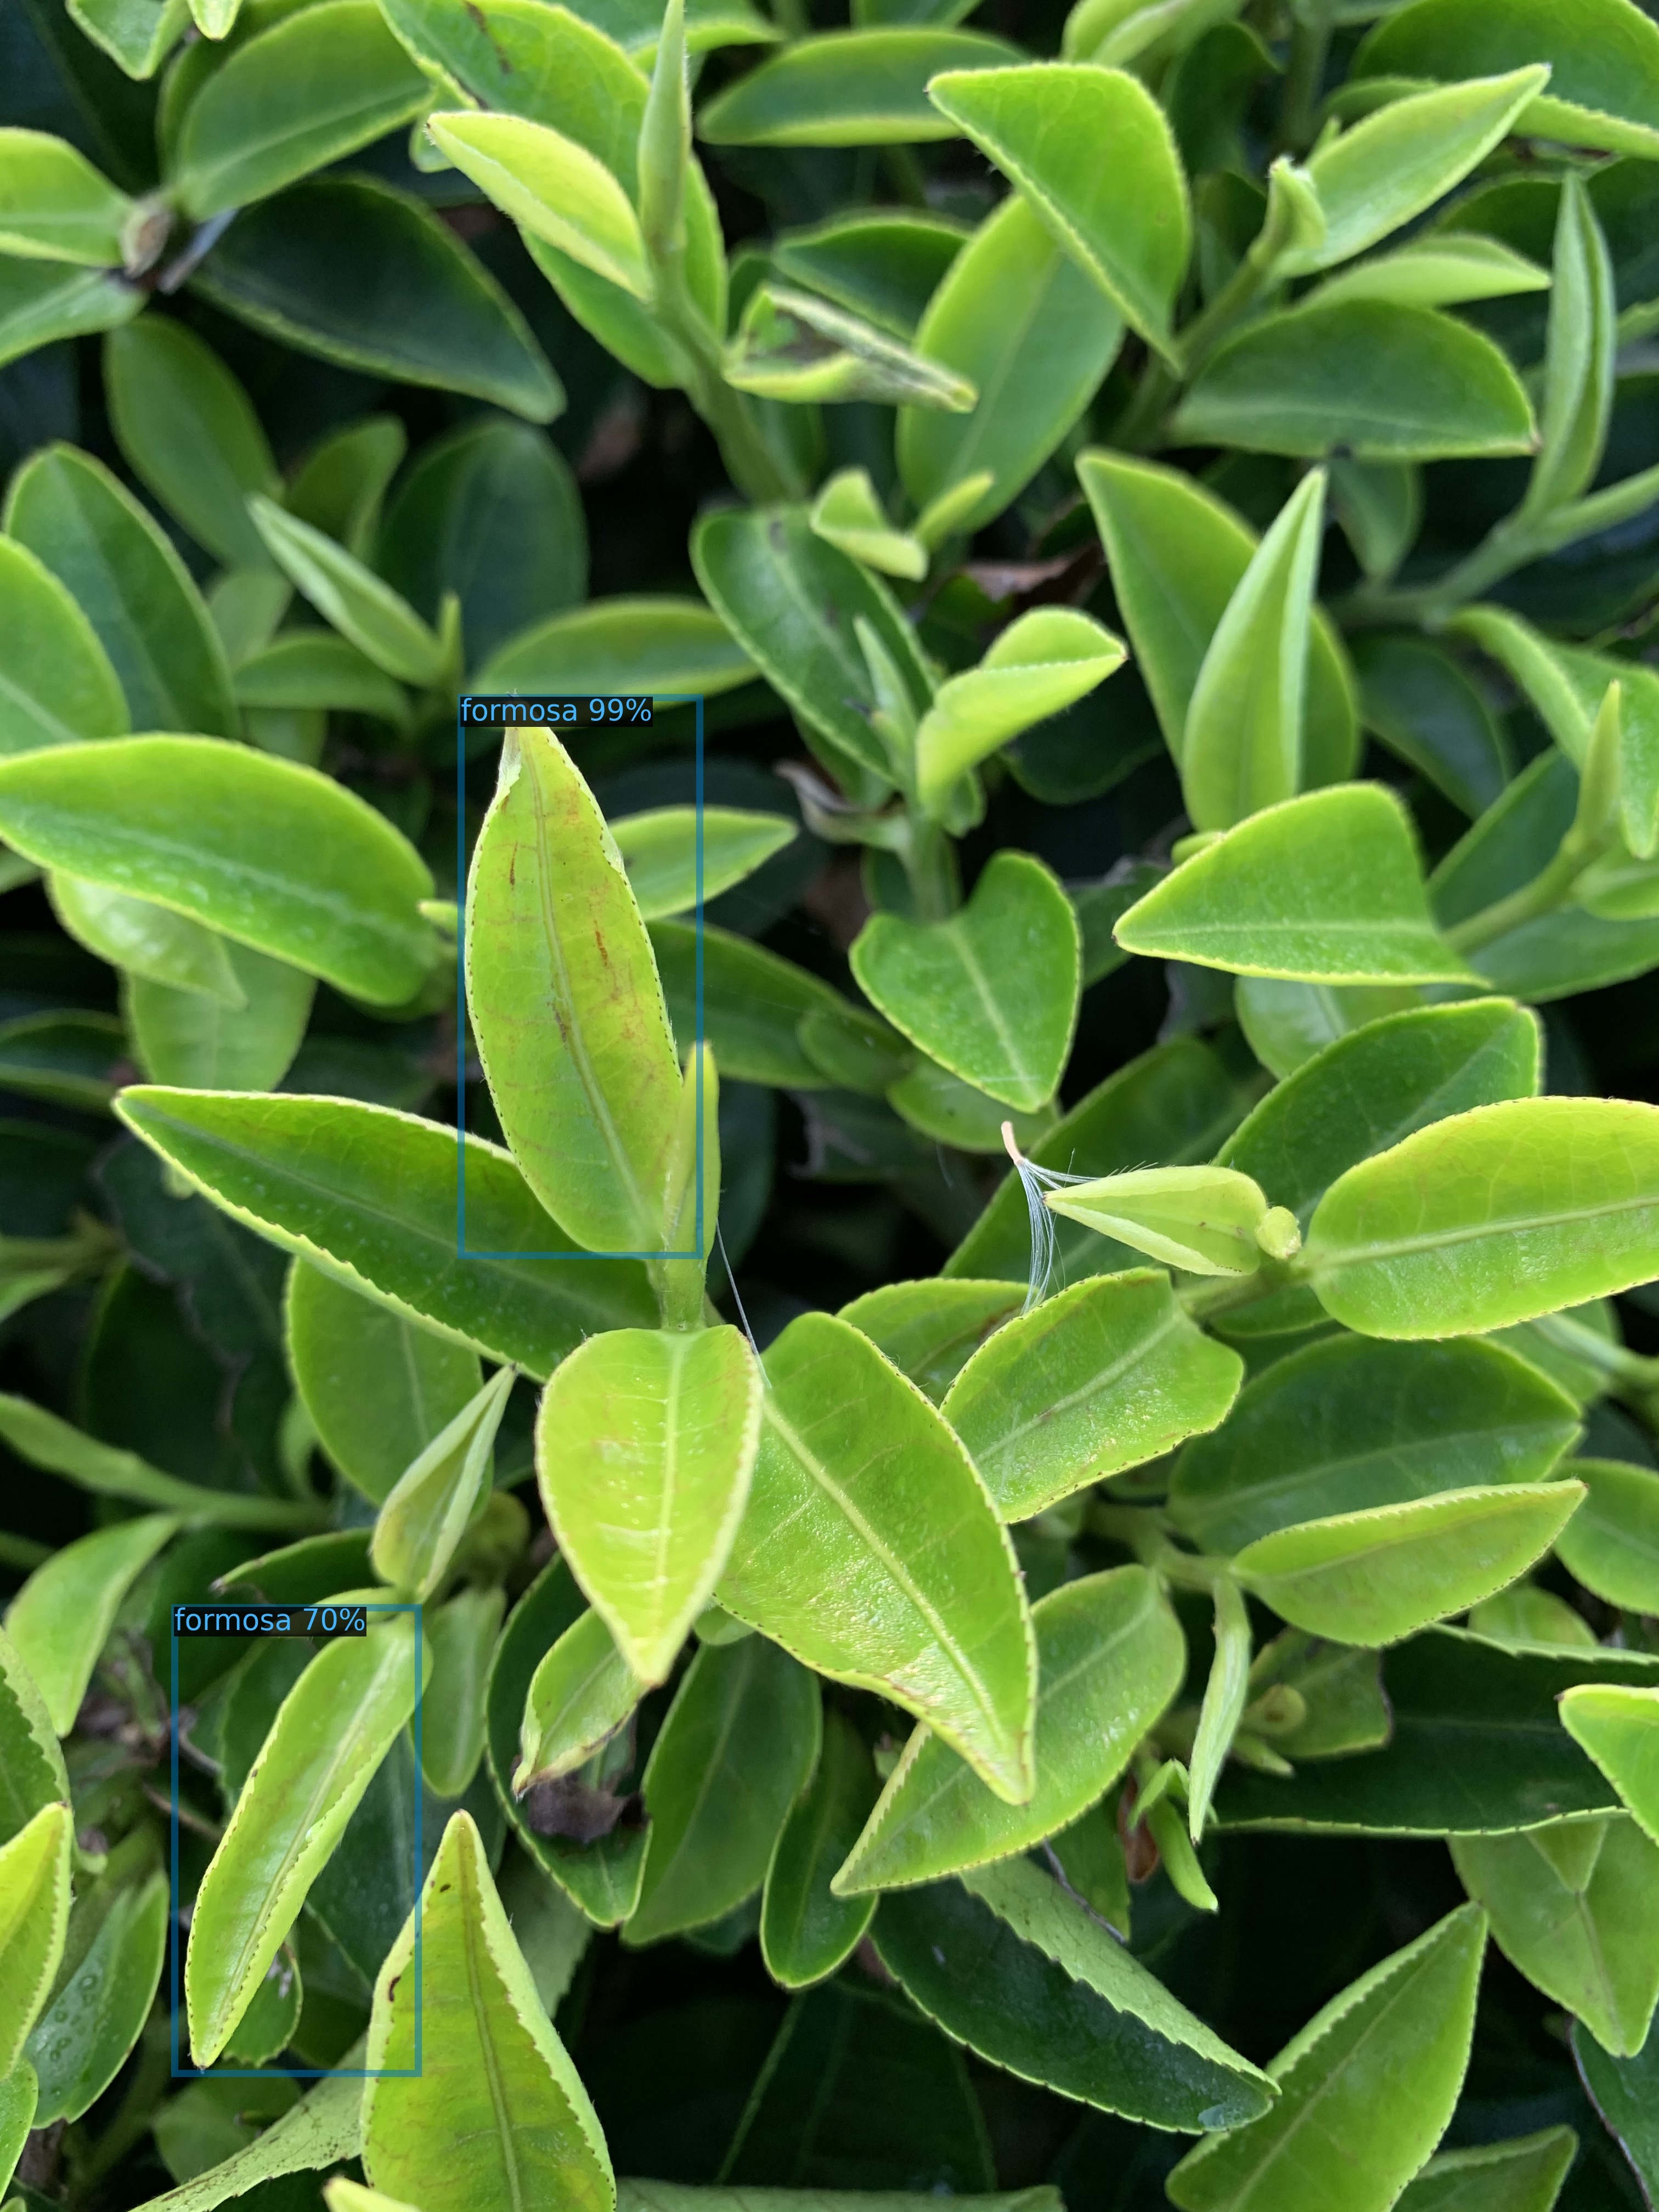formosa: (460, 697, 699, 1256), (174, 1608, 418, 2073)
